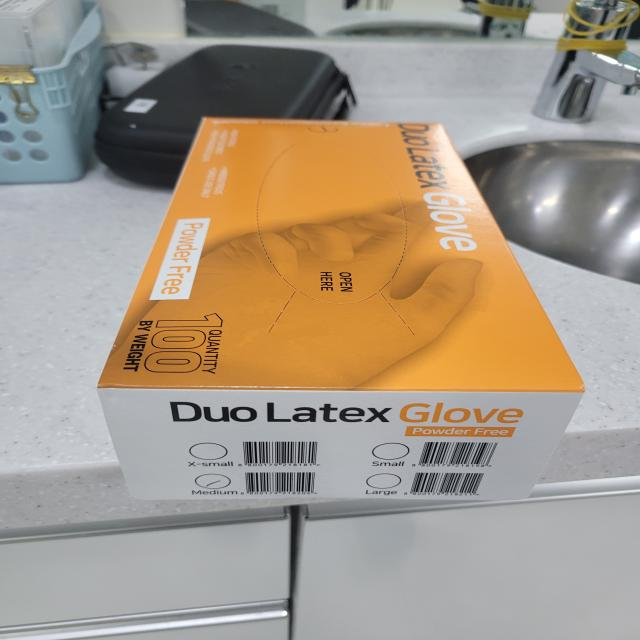glove: (89, 84, 619, 537)
